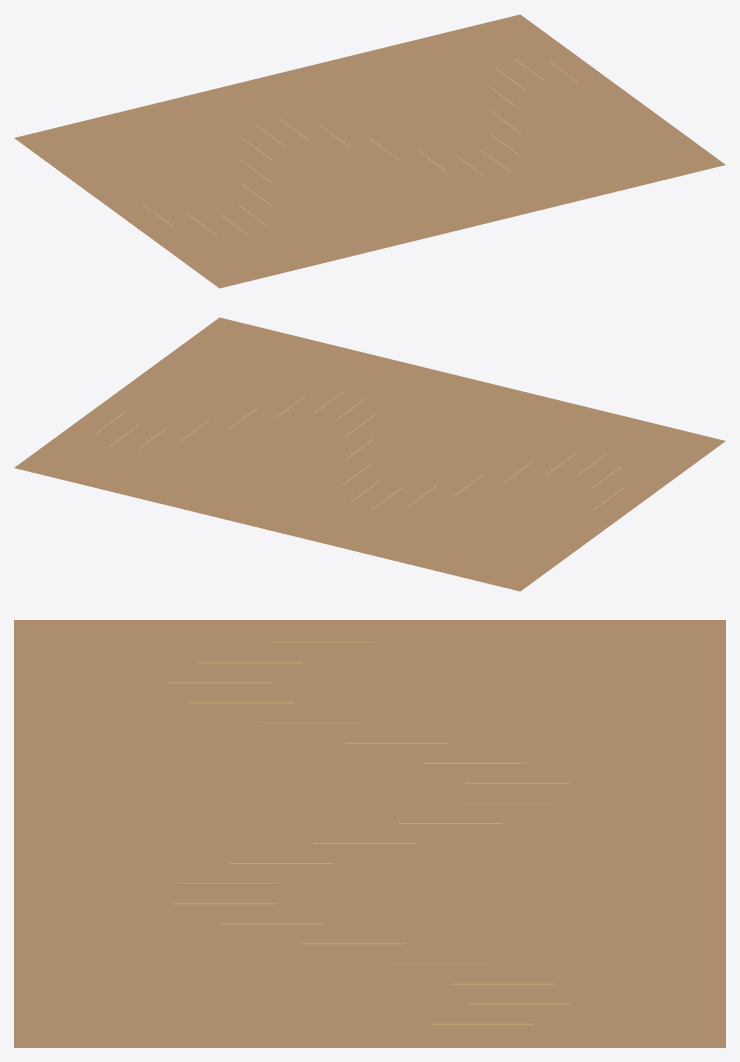
Rendered from 248_L118_L11_LayerReference.glb.
3 renders of one model, top to bottom at view 1: azimuth 30°, elevation 25°; view 2: azimuth 150°, elevation 25°; view 3: azimuth 270°, elevation 25°, orthographic. The views are drawn at different scales.
Parts seen in each view (by area): view 1: 0000__PSMAT__copper_dark; view 2: 0000__PSMAT__copper_dark; view 3: 0000__PSMAT__copper_dark.
Part boxes in pixels (box(x1,y1,x2,y2)): 0000__PSMAT__copper_dark: box(14, 14, 725, 288); 0000__PSMAT__copper_dark: box(14, 317, 725, 591); 0000__PSMAT__copper_dark: box(14, 620, 725, 1047).
Size of the model in its own units: 0.472 by 0.000514 by 0.332.
